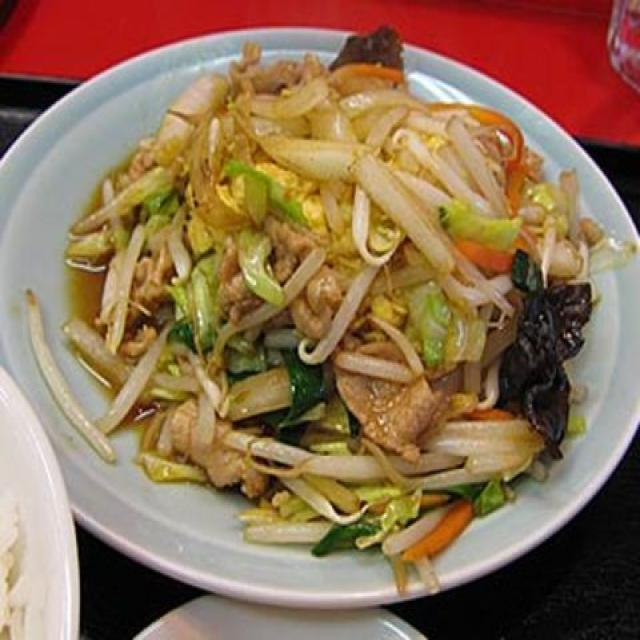蔬菜料理: (0, 13, 640, 612)
